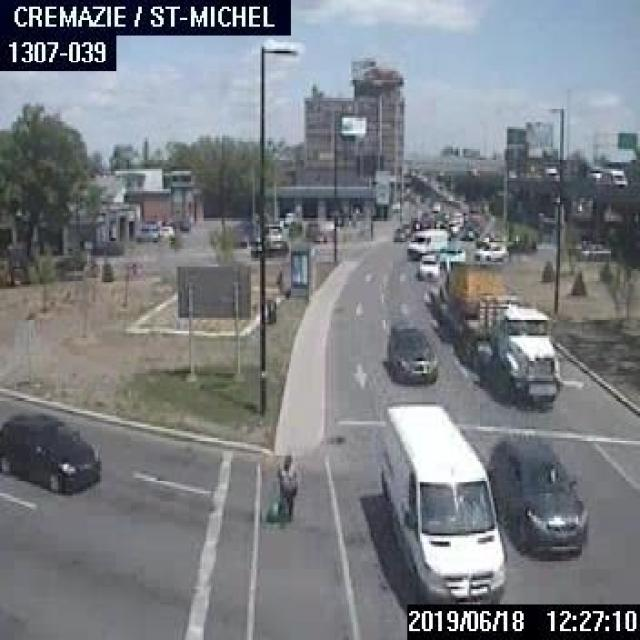pedestrian: (271, 449, 297, 522)
vehicle: (378, 404, 505, 603), (441, 260, 558, 404), (486, 436, 585, 559), (0, 409, 102, 493), (386, 319, 436, 383), (405, 228, 446, 258), (473, 240, 508, 262), (249, 236, 287, 256), (415, 253, 439, 279), (438, 245, 464, 266), (134, 222, 159, 239), (157, 224, 173, 238), (391, 225, 405, 241), (399, 220, 410, 235), (446, 220, 458, 233)
